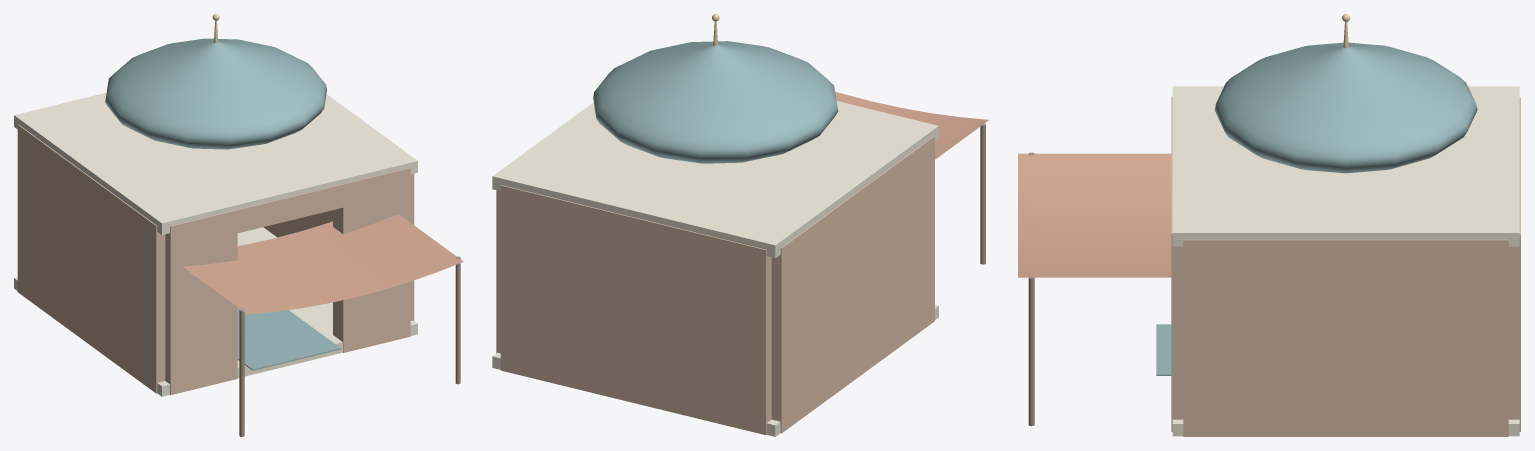
The model's file is prop-caravan.glb.
3 renders of one model, left to right at view 1: azimuth 30°, elevation 25°; view 2: azimuth 150°, elevation 25°; view 3: azimuth 270°, elevation 25°, orthographic. The views are drawn at different scales.
Parts seen in each view (by area): view 1: caravan, Group_17; view 2: caravan, Group_17; view 3: caravan, Group_17.
Boxes of the visible parts, left/top/right/bottom form: caravan: left=14, top=92, right=463, bottom=436; Group_17: left=105, top=14, right=326, bottom=149; caravan: left=492, top=91, right=988, bottom=436; Group_17: left=593, top=14, right=838, bottom=163; caravan: left=1018, top=86, right=1520, bottom=436; Group_17: left=1214, top=14, right=1477, bottom=173.
Bounding box in the file's own units: 6.45 × 7.1 × 9.27.
